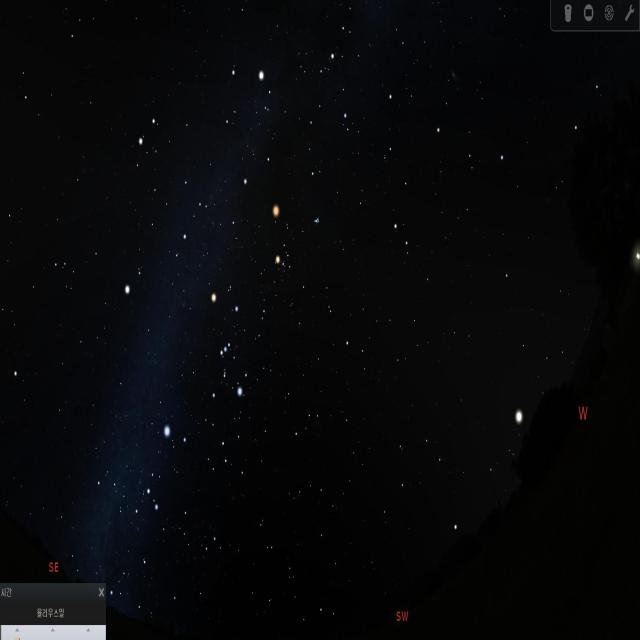canis_major: (131, 414, 192, 515)
canis_minor: (116, 262, 150, 305)
gemini: (135, 110, 214, 245)
orion: (211, 294, 247, 409)
pleiades: (312, 213, 321, 234)
taurus: (268, 201, 329, 304)
